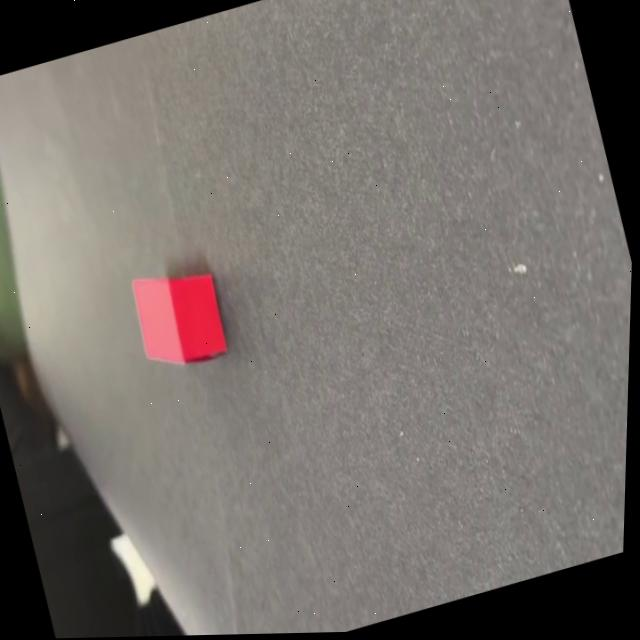red block: (124, 257, 234, 377)
